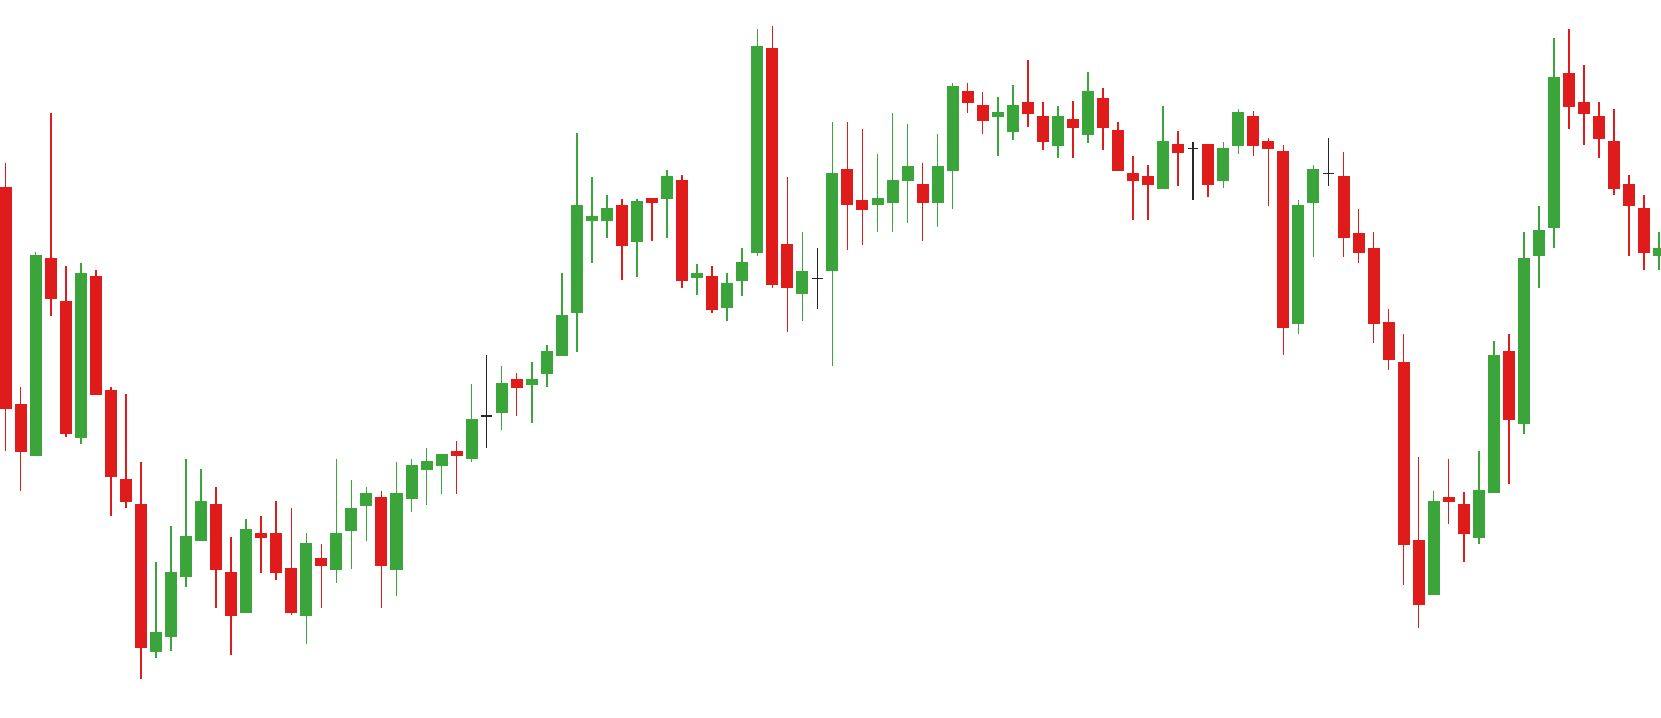buy: (703, 172, 809, 342)
sell: (1022, 31, 1577, 308)
